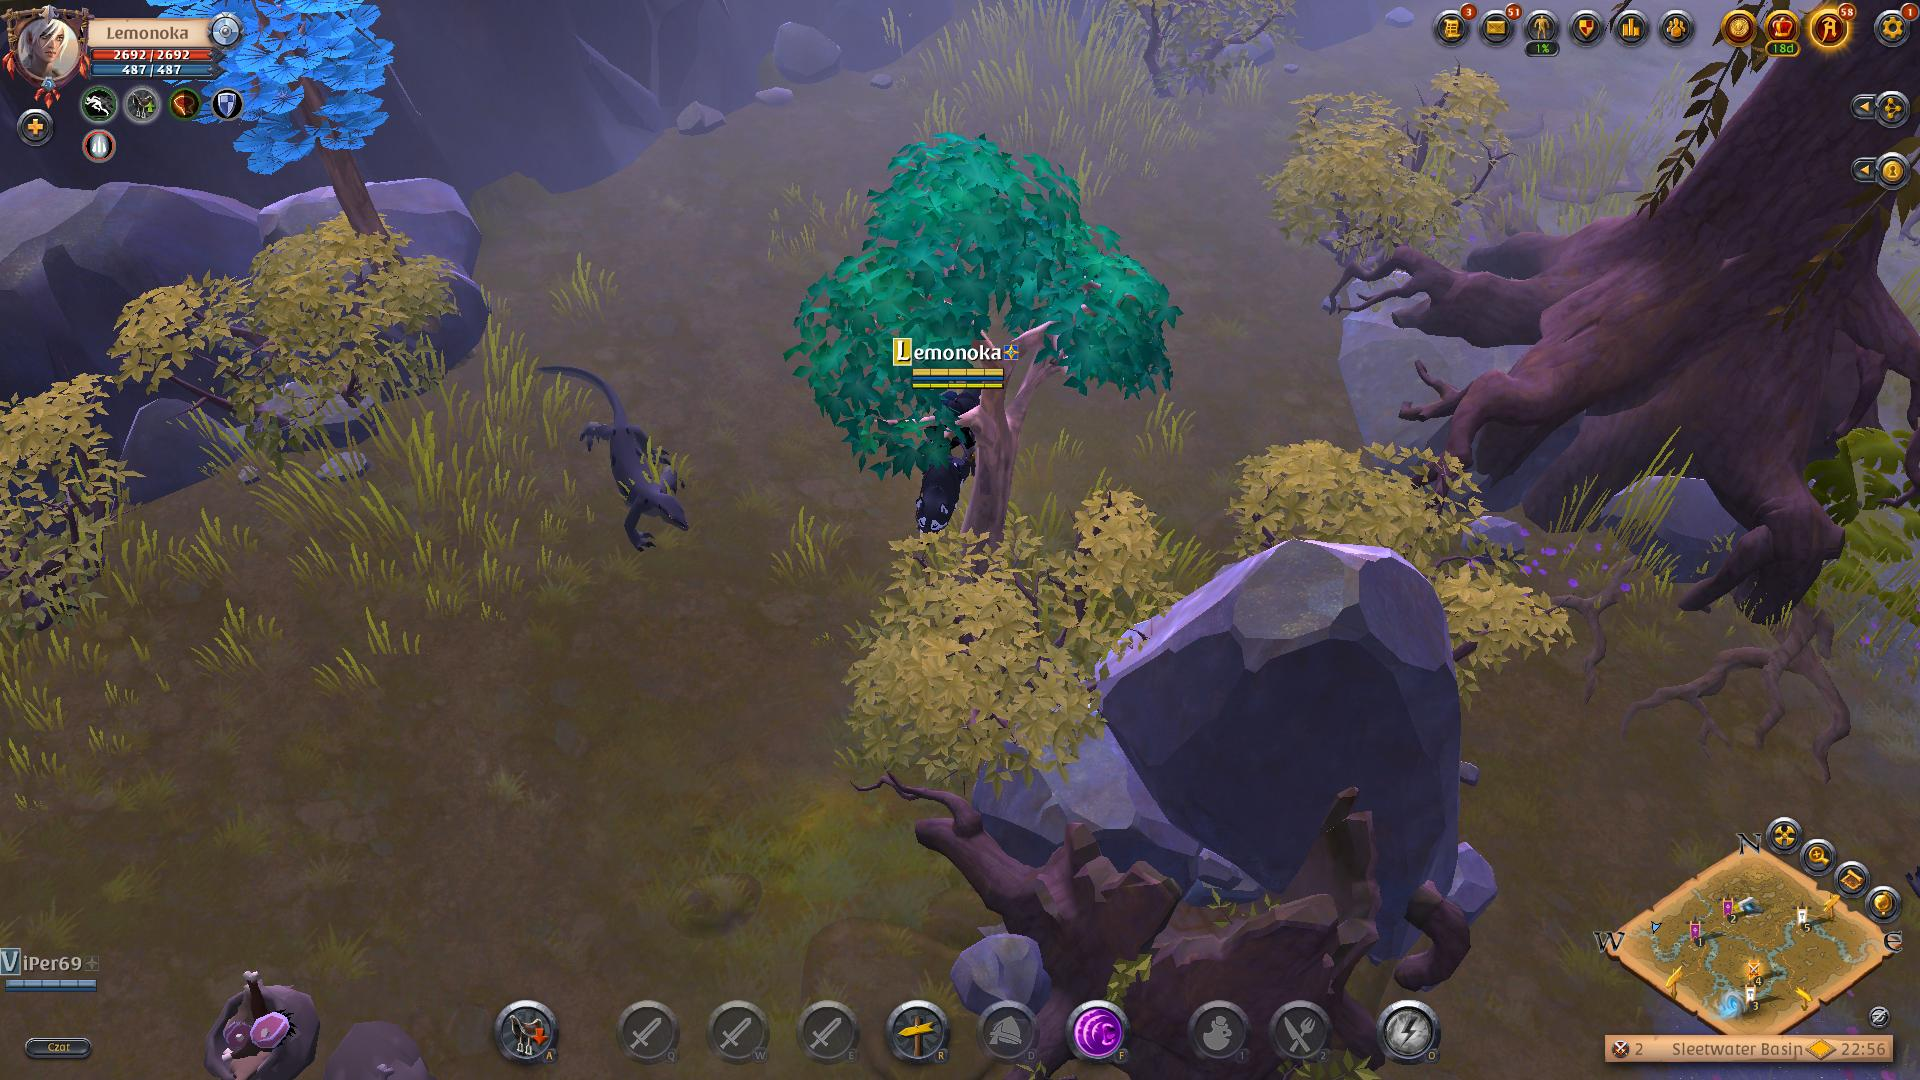wood tier 3: (802, 133, 1182, 485)
